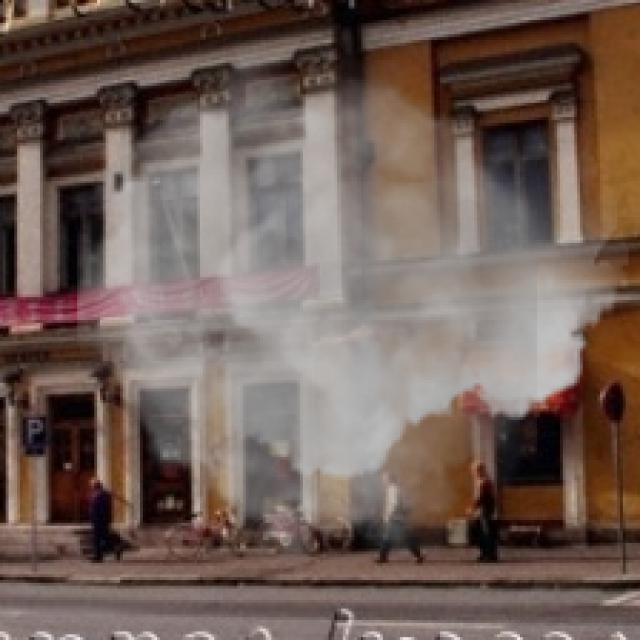smoke: (77, 40, 629, 577)
